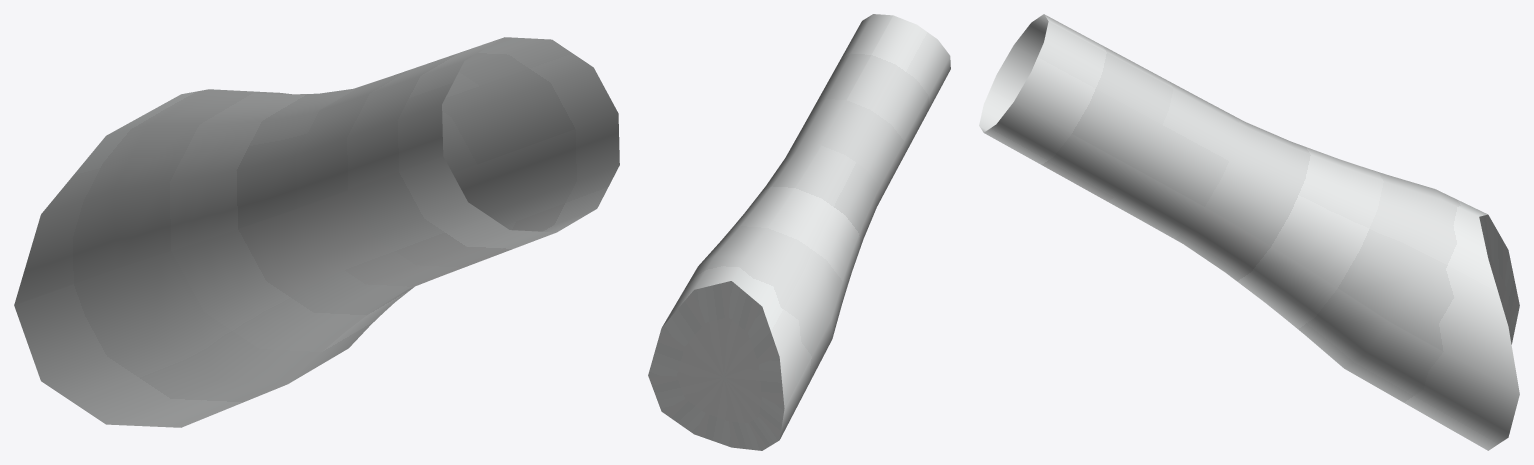
File: luminairearm_caltrans8ftstraightdouble_c5_thin.obj
3 views of the same model, side by side, from view 1: azimuth 30°, elevation 25°; view 2: azimuth 150°, elevation 25°; view 3: azimuth 270°, elevation 25° (orthographic). The views are drawn at different scales.
Visible parts, largest first — view 1: luminairearm_caltrans8ftstraightdouble_c5_thin; view 2: luminairearm_caltrans8ftstraightdouble_c5_thin; view 3: luminairearm_caltrans8ftstraightdouble_c5_thin.
Part boxes in pixels (x1,y1,x2,y2): luminairearm_caltrans8ftstraightdouble_c5_thin: (14,37,619,427); luminairearm_caltrans8ftstraightdouble_c5_thin: (648,14,950,450); luminairearm_caltrans8ftstraightdouble_c5_thin: (979,14,1519,450).
Size of the model in its own units: 0.3375 by 0.7415 by 0.8705.
